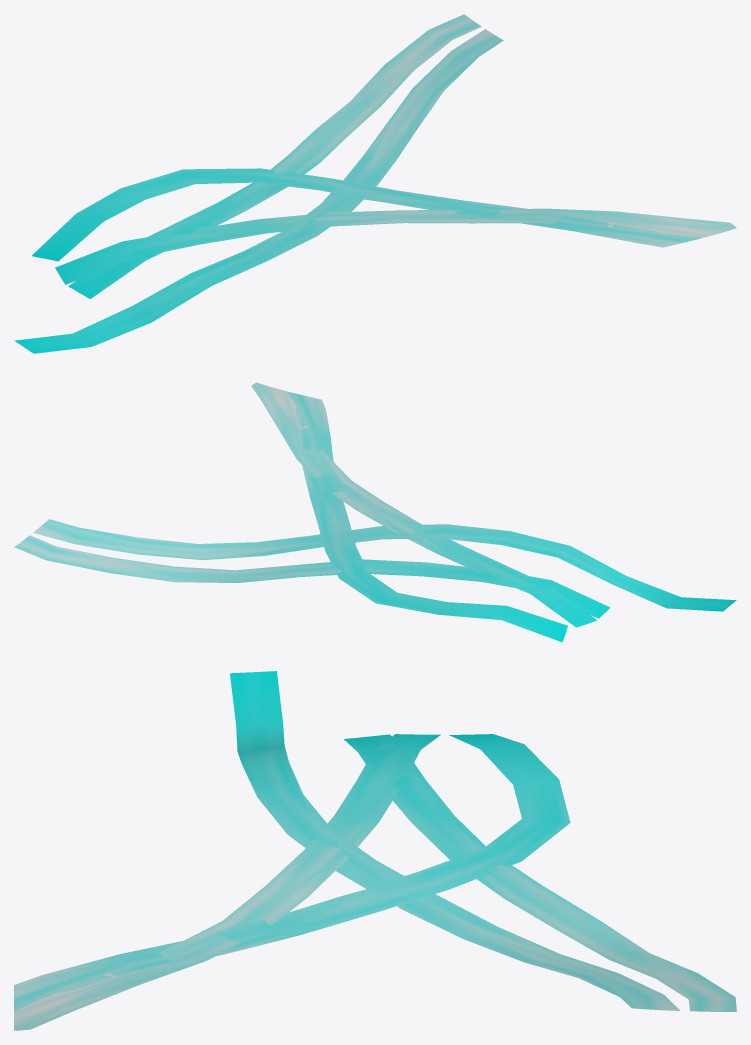
3 renders of one model, top to bottom at view 1: azimuth 30°, elevation 25°; view 2: azimuth 150°, elevation 25°; view 3: azimuth 270°, elevation 25°, orthographic. The views are drawn at different scales.
Parts seen in each view (by area): view 1: SpaceCenter_Long3_GenerateRoad_Sand_TireTracks_Width_Mesh_x1; view 2: SpaceCenter_Long3_GenerateRoad_Sand_TireTracks_Width_Mesh_x1; view 3: SpaceCenter_Long3_GenerateRoad_Sand_TireTracks_Width_Mesh_x1.
Part boxes in pixels (<box>): SpaceCenter_Long3_GenerateRoad_Sand_TireTracks_Width_Mesh_x1: <box>14,14,736,353</box>; SpaceCenter_Long3_GenerateRoad_Sand_TireTracks_Width_Mesh_x1: <box>14,382,736,642</box>; SpaceCenter_Long3_GenerateRoad_Sand_TireTracks_Width_Mesh_x1: <box>14,671,736,1030</box>.
Bounding box in the file's own units: 552 × 730 × 67.26.
